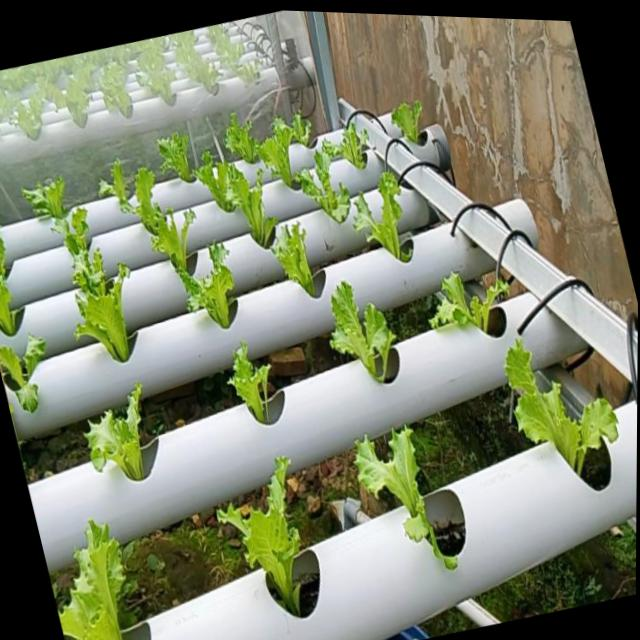Baby: (510, 336, 625, 472), (358, 424, 462, 568), (219, 455, 303, 615), (59, 521, 128, 640), (333, 277, 399, 379), (124, 187, 199, 274), (89, 382, 149, 479), (216, 160, 281, 247), (356, 166, 416, 259), (157, 124, 217, 211), (433, 265, 515, 325), (298, 140, 355, 222), (79, 277, 133, 362), (69, 228, 117, 317), (261, 110, 314, 186), (1, 335, 49, 413), (274, 219, 323, 295), (231, 340, 272, 421), (199, 243, 237, 327), (326, 114, 373, 167), (101, 160, 139, 214), (26, 176, 70, 220), (227, 112, 262, 162), (395, 94, 426, 137), (0, 219, 10, 284)
